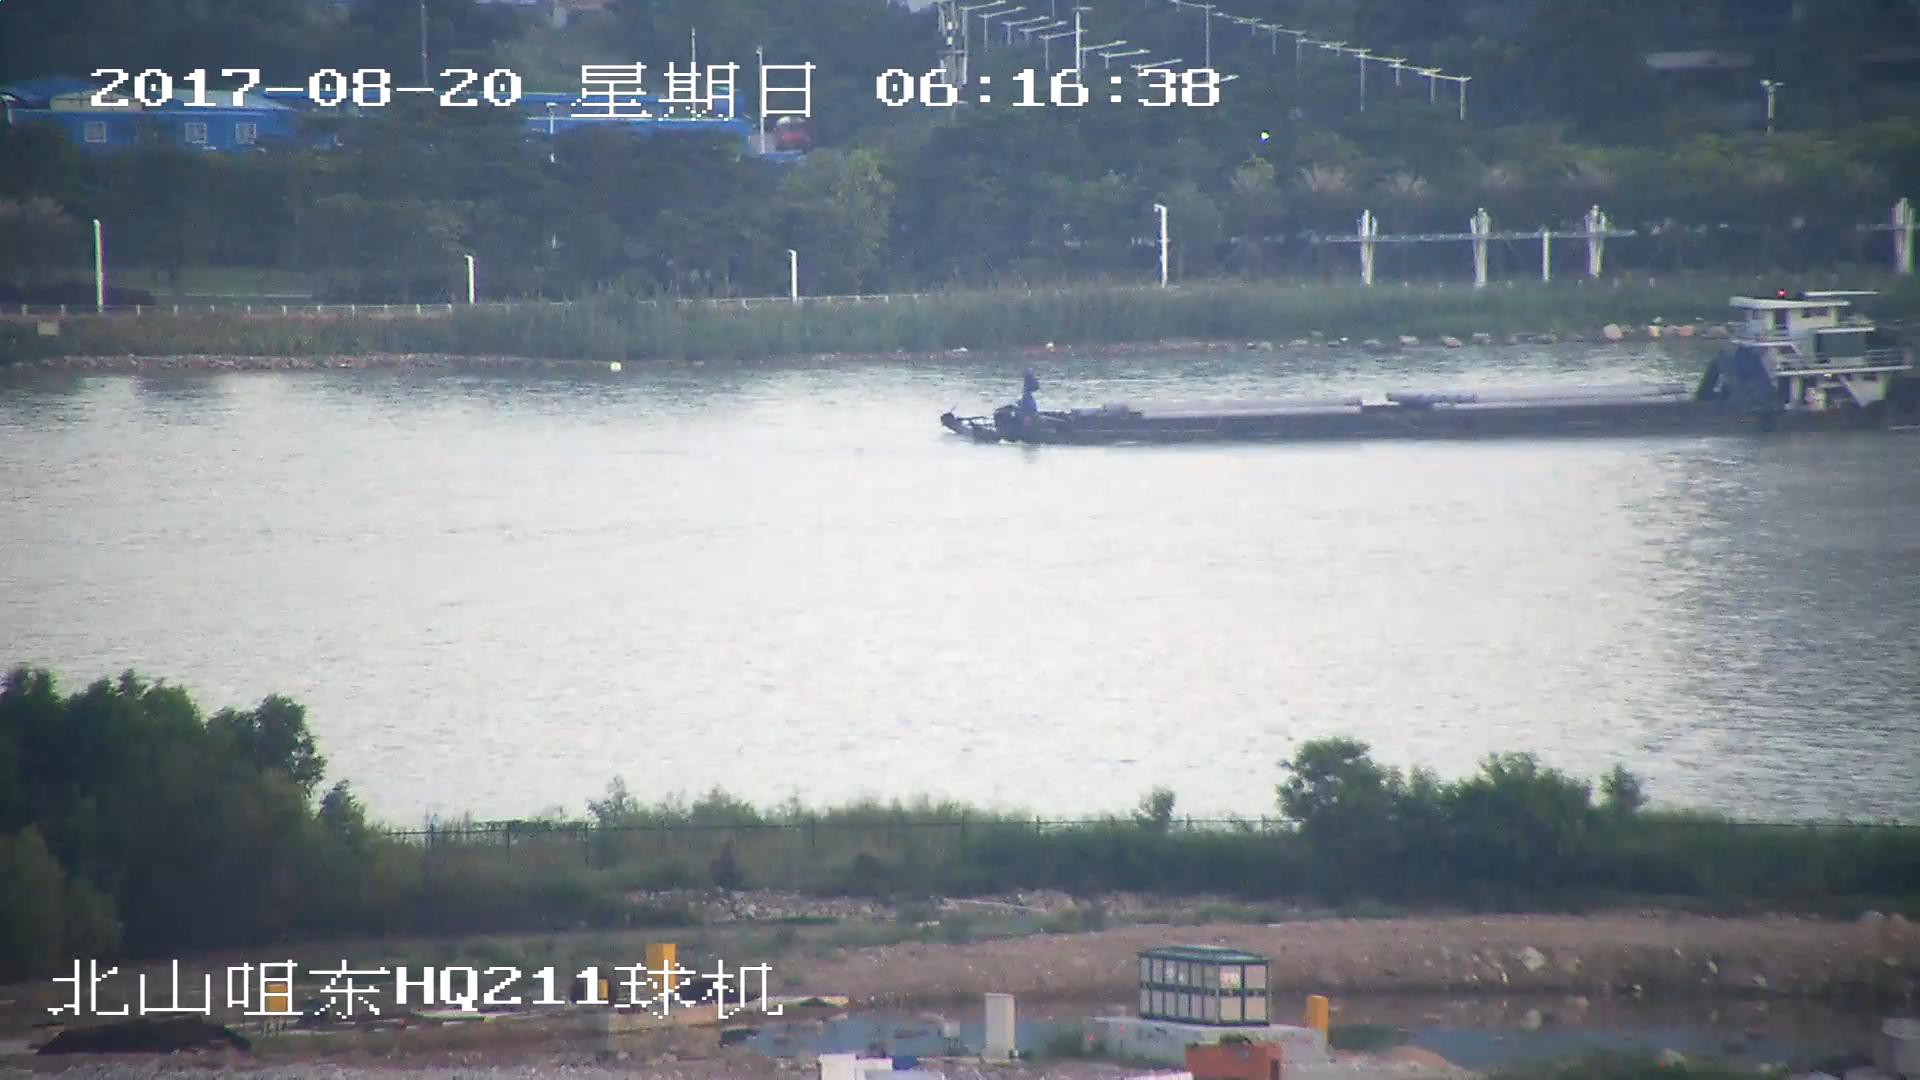bulk cargo carrier: (942, 293, 1920, 441)
